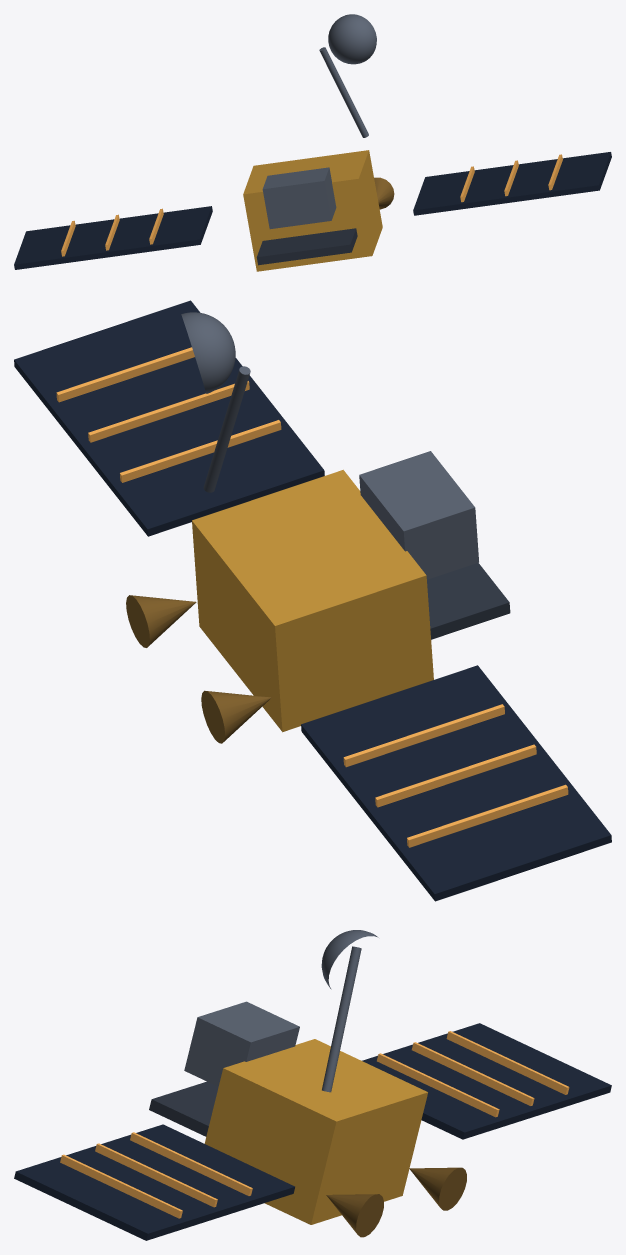
The model's file is navic-irnss-1i.glb.
The picture shows the model from 3 angles, top to bottom: view 1: azimuth 30°, elevation 25°; view 2: azimuth 150°, elevation 25°; view 3: azimuth 270°, elevation 25°; orthographic projection. The views are drawn at different scales.
Visible parts, largest first — view 1: Bus_MainBody, SolarPanels_Left, SolarPanels_Right, Payload_NavClockBox, Payload_BroadcastArray, Antenna_Dish, SolarPanels, Antenna_Mast, Thrusters_Nozzle_0.38; view 2: Bus_MainBody, SolarPanels_Left, SolarPanels_Right, SolarPanels, Payload_NavClockBox, Payload_BroadcastArray, Antenna_Dish, Thrusters_Nozzle_0.38, Thrusters_Nozzle_-0.38, Antenna_Mast; view 3: Bus_MainBody, SolarPanels_Right, SolarPanels_Left, SolarPanels, Payload_NavClockBox, Payload_BroadcastArray, Thrusters_Nozzle_0.38, Thrusters_Nozzle_-0.38, Antenna_Mast, Antenna_Dish.
Boxes of the visible parts, x1,y1,x2,y2 form: Bus_MainBody: (243, 150, 382, 271); SolarPanels_Left: (14, 206, 212, 269); SolarPanels_Right: (413, 152, 611, 215); Payload_NavClockBox: (262, 167, 336, 229); Payload_BroadcastArray: (256, 228, 357, 265); Antenna_Dish: (328, 14, 376, 64); SolarPanels: (61, 154, 562, 256); Antenna_Mast: (319, 47, 368, 137); Thrusters_Nozzle_0.38: (374, 177, 394, 209); Bus_MainBody: (192, 469, 433, 732); SolarPanels_Left: (301, 665, 611, 901); SolarPanels_Right: (14, 300, 324, 536); SolarPanels: (56, 347, 568, 847); Payload_NavClockBox: (359, 451, 478, 579); Payload_BroadcastArray: (427, 562, 510, 639); Antenna_Dish: (181, 312, 235, 393); Thrusters_Nozzle_0.38: (126, 595, 196, 647); Thrusters_Nozzle_-0.38: (201, 690, 271, 743); Antenna_Mast: (203, 366, 250, 492); Bus_MainBody: (204, 1039, 427, 1224); SolarPanels_Right: (14, 1124, 294, 1240); SolarPanels_Left: (362, 1023, 611, 1139); SolarPanels: (60, 1031, 569, 1218); Payload_NavClockBox: (184, 1001, 299, 1086); Payload_BroadcastArray: (149, 1081, 218, 1136); Thrusters_Nozzle_0.38: (326, 1194, 383, 1237); Thrusters_Nozzle_-0.38: (409, 1167, 466, 1210); Antenna_Mast: (322, 946, 361, 1092); Antenna_Dish: (321, 930, 378, 989).
Size of the model in its own units: 4.73 by 2.16 by 3.65.
